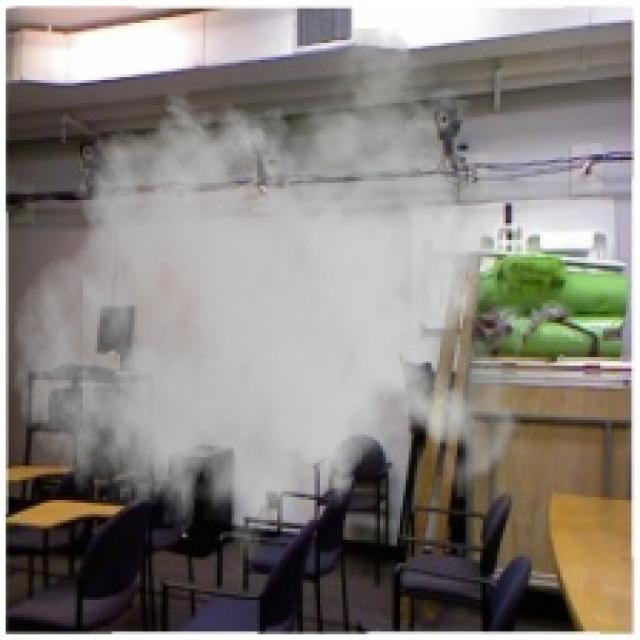smoke: (11, 28, 528, 583)
